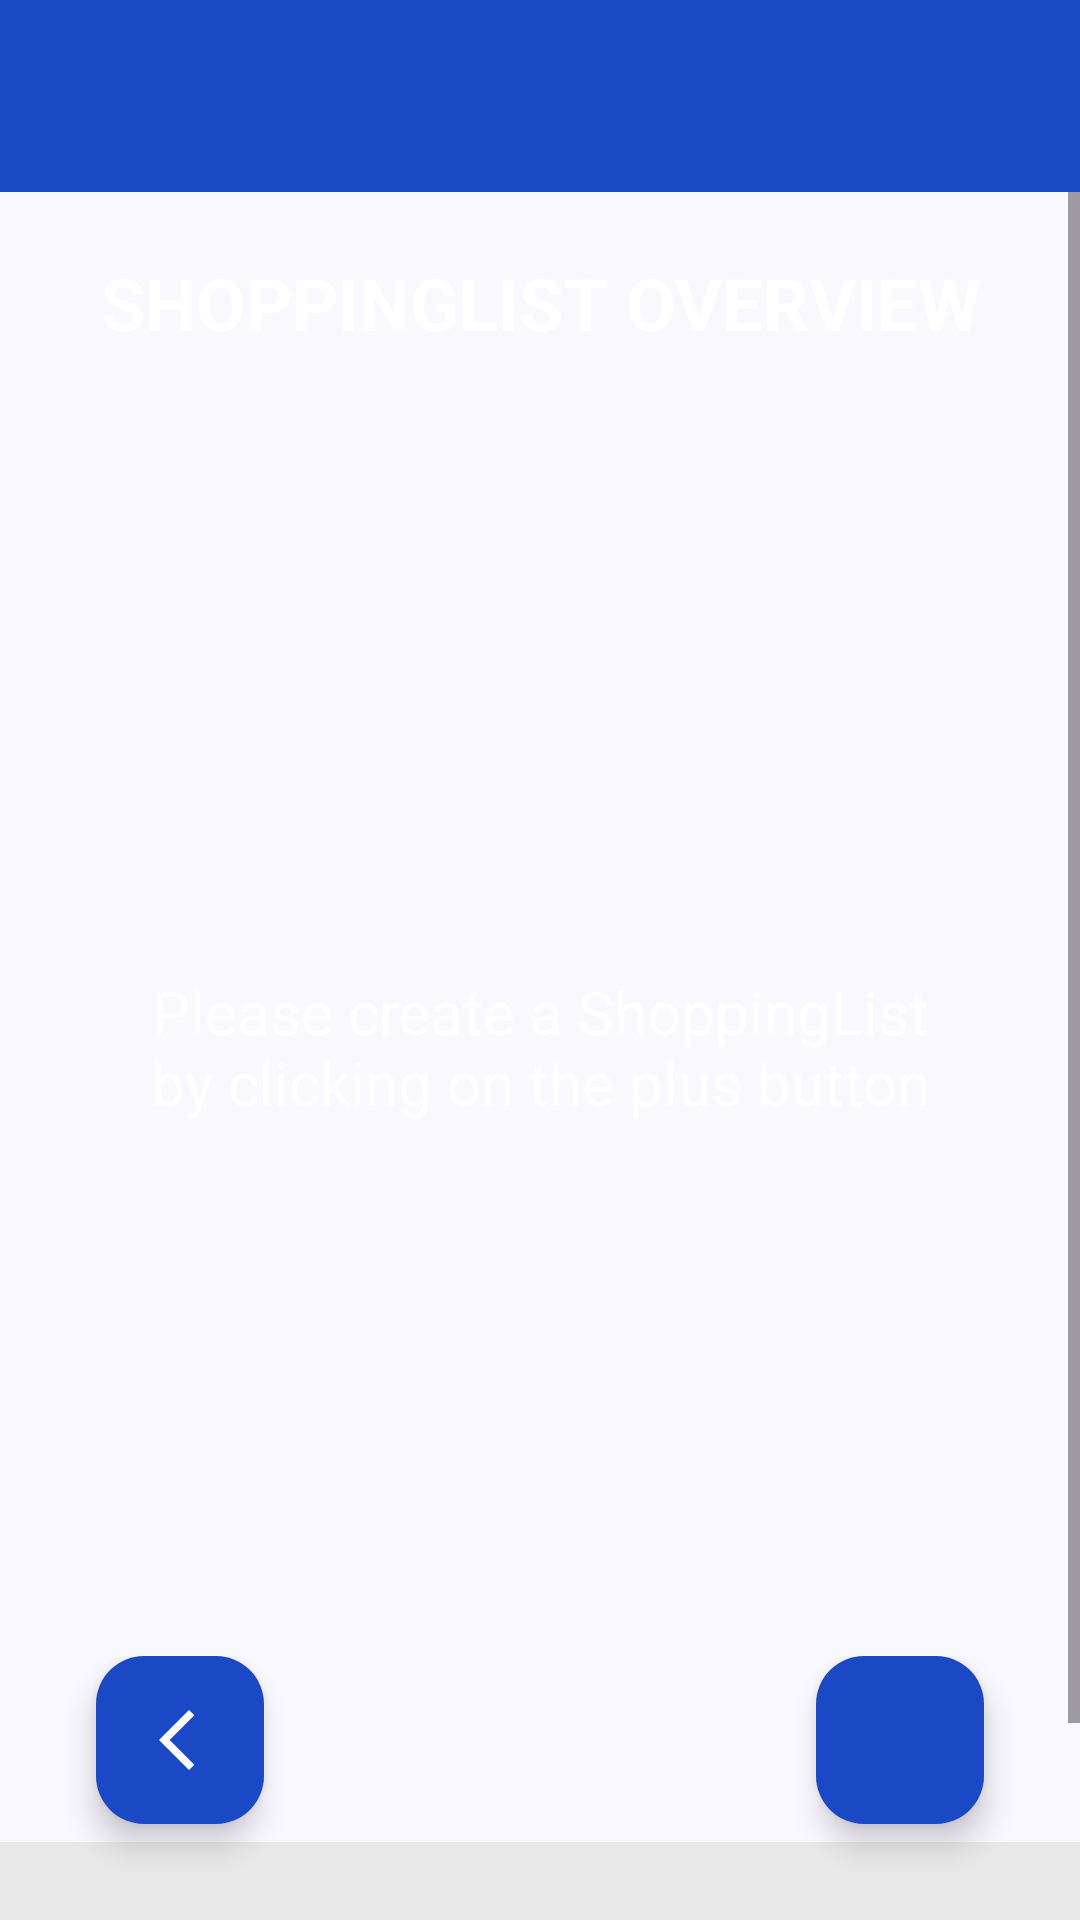

Screen size 1080px×1920px. Icon name, then its center in pixels as (x=x, y=y):
Back to previous Page Icon: (x=180, y=1740)
